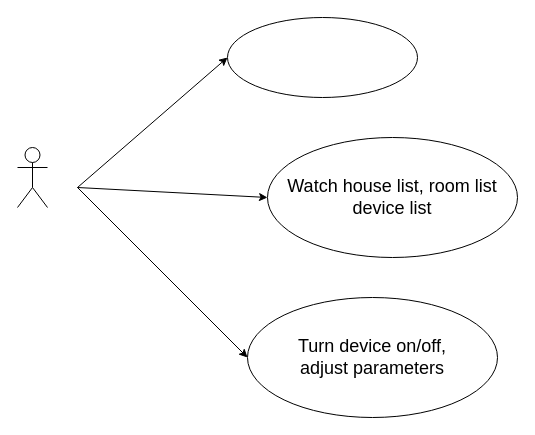
This 535x435 diagram has some shape labels left out. Each missing label, with the box of its shape:
Sign in: (226, 16, 418, 98)
User: (16, 146, 48, 208)
